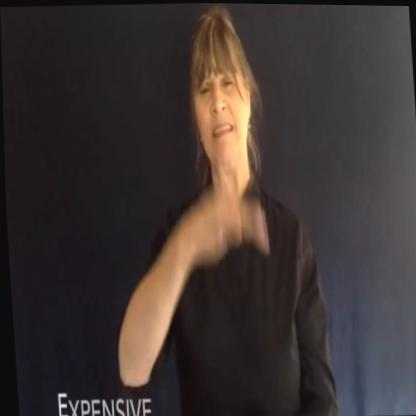Expensive: (176, 174, 279, 283)
